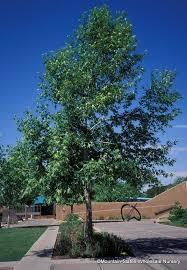tree: (13, 10, 185, 248)
